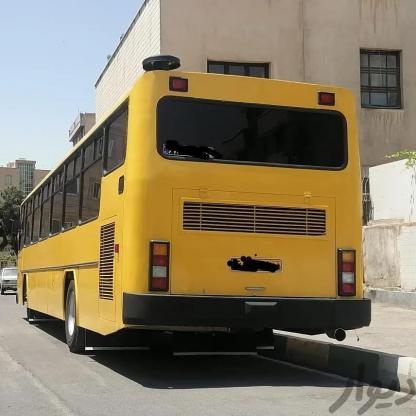Bus: (20, 59, 356, 372)
Car: (0, 266, 23, 295)
